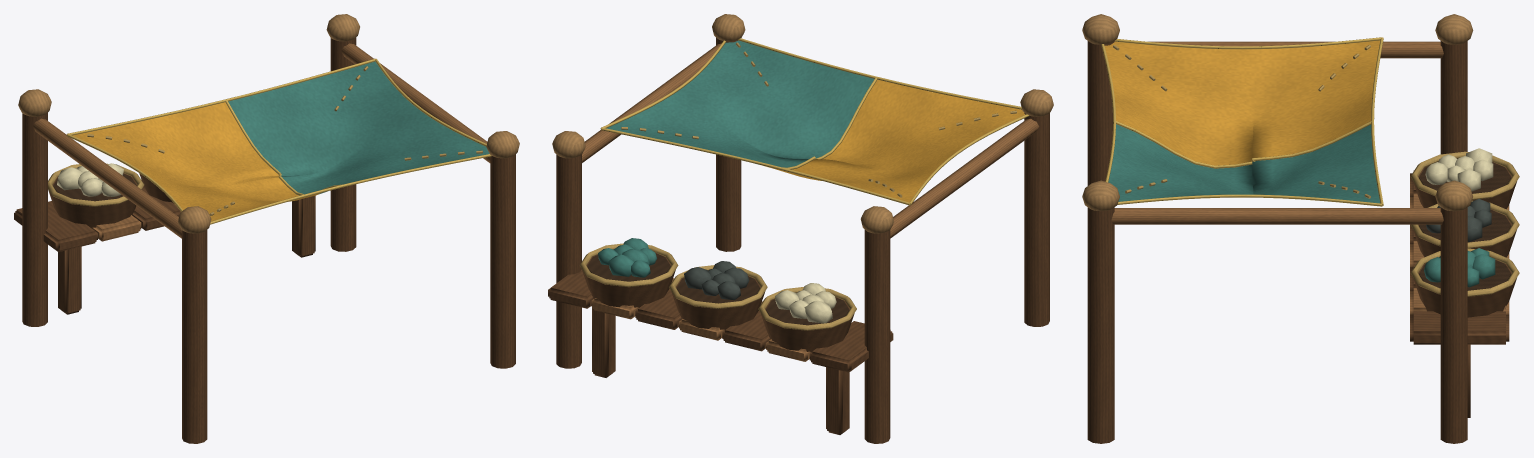
The model's file is market-stall-0.fbx.
3 renders of one model, left to right at view 1: azimuth 30°, elevation 25°; view 2: azimuth 150°, elevation 25°; view 3: azimuth 270°, elevation 25°, orthographic. The views are drawn at different scales.
Visible parts, largest first — view 1: market-stall-0__Geometry; view 2: market-stall-0__Geometry; view 3: market-stall-0__Geometry.
Part boxes in pixels (box(x1,y1,x2,y2)): market-stall-0__Geometry: box(14, 14, 519, 443); market-stall-0__Geometry: box(548, 14, 1053, 443); market-stall-0__Geometry: box(1082, 14, 1519, 443).
Size of the model in its own units: 3.17 by 2.08 by 3.22.
